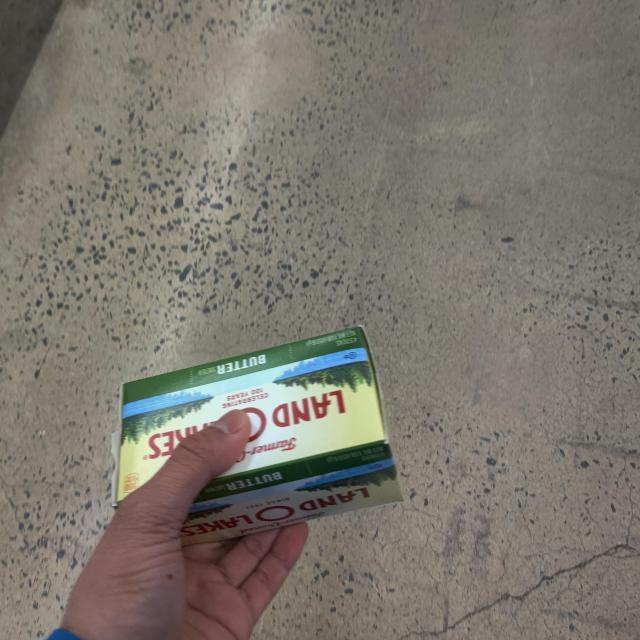Butter: (97, 352, 443, 530)
